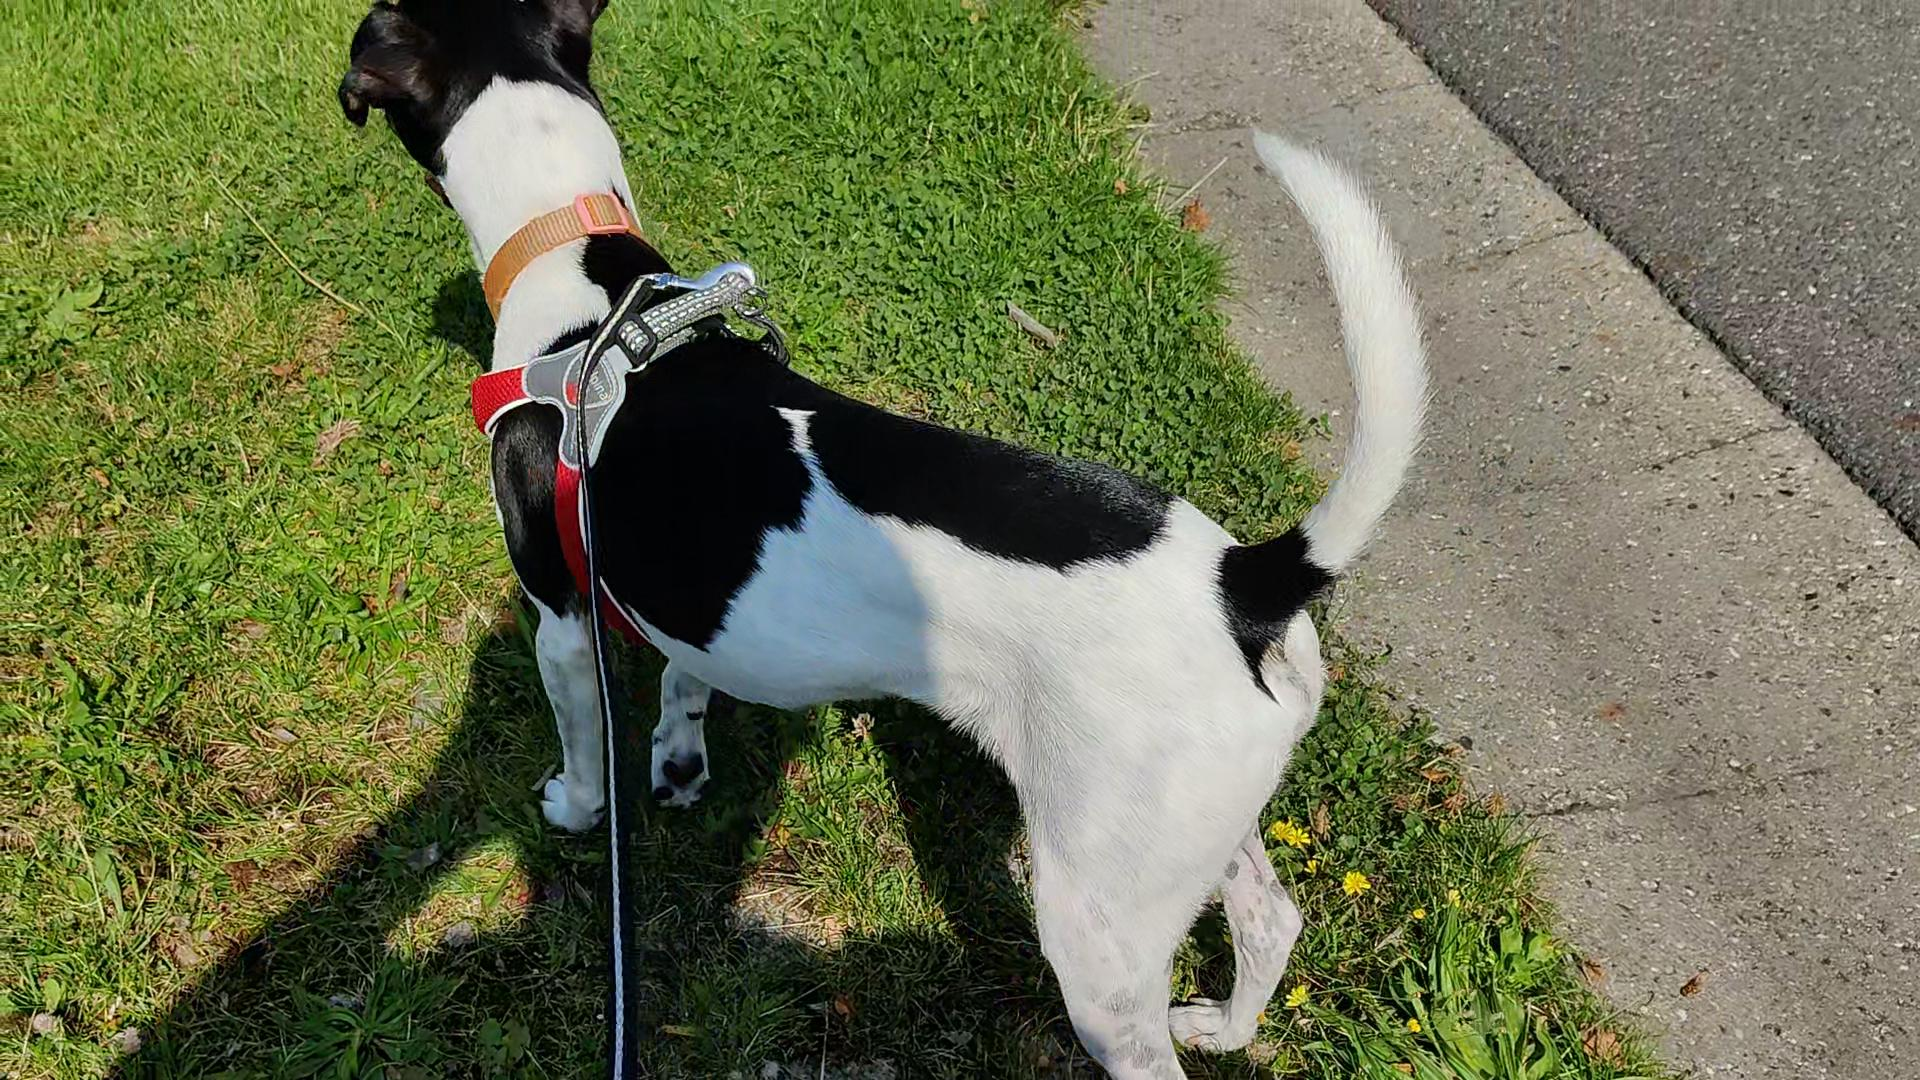Dog: (323, 0, 1456, 1079)
